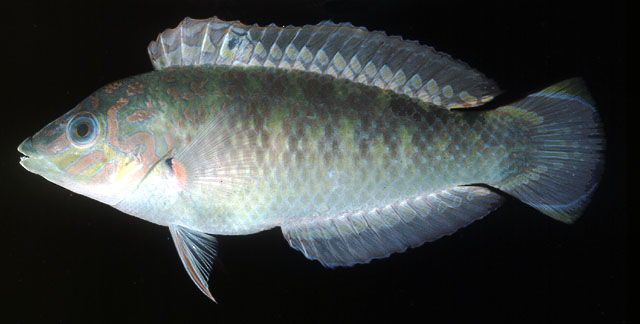fish: (16, 13, 604, 304)
